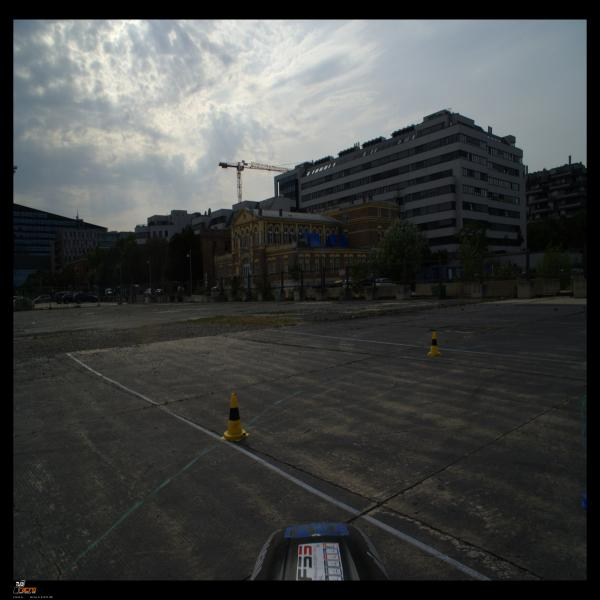yellow_cone: (220, 392, 250, 442), (427, 332, 442, 356)
